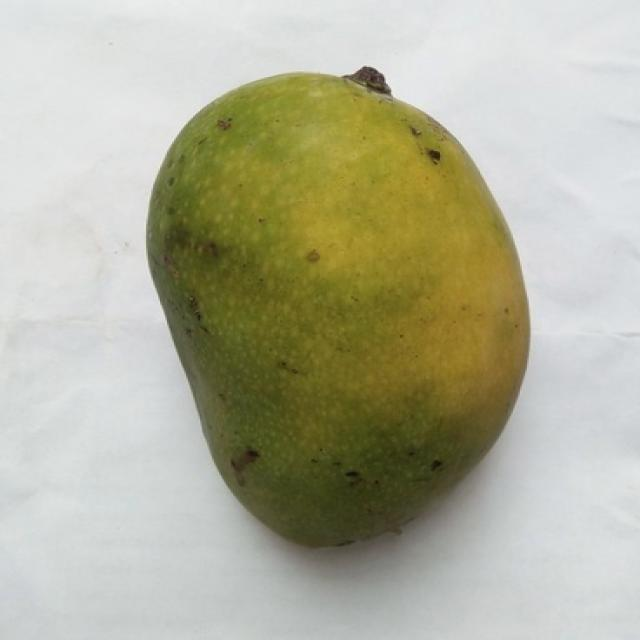Mango: (148, 68, 527, 544)
